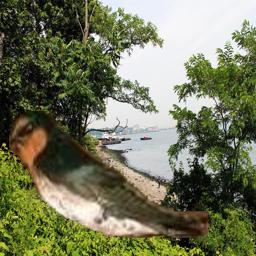Swallow: (9, 111, 208, 241)
